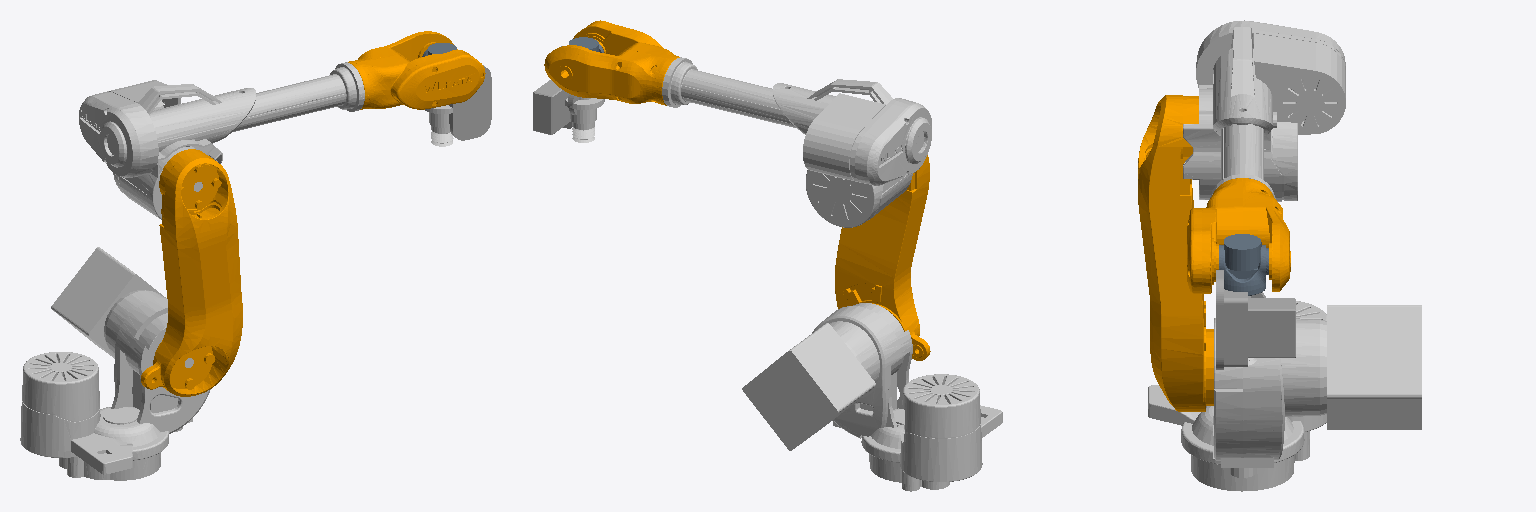
URDF robot description (mirobot_urdf_2):
<?xml version="1.0" encoding="utf-8"?>
<!-- =================================================================================== -->
<!-- |    This document was autogenerated by xacro from mirobot_urdf_2.xacro           | -->
<!-- |    EDITING THIS FILE BY HAND IS NOT RECOMMENDED                                 | -->
<!-- =================================================================================== -->
<!-- This URDF was automatically created by SolidWorks to URDF Exporter! Originally created by [author] ([email redacted]) 
     Commit Version: 1.5.1-0-g916b5db  Build Version: 1.5.7152.31018
     For more information, please see http://wiki.ros.org/sw_urdf_exporter -->
<robot name="mirobot_urdf_2">
  <link name="base_link">
    <inertial>
      <origin rpy="0 0 0" xyz="0.00072554 2.2065E-05 0.024268"/>
      <mass value="0.01"/>
      <inertia ixx="10" ixy="0" ixz="0" iyy="10" iyz="0" izz="10"/>
    </inertial>
    <visual>
      <origin rpy="0 0 0" xyz="0 0 0"/>
      <geometry>
        <mesh filename="package://mirobot_description/meshes/base_link.obj"/>
      </geometry>
      <material name="">
        <color rgba="0.44 0.5 0.56 1"/>
      </material>
    </visual>
    <collision>
      <origin rpy="0 0 0" xyz="0 0 0"/>
      <geometry>
        <mesh filename="package://mirobot_description/meshes/base_link.obj"/>
      </geometry>
    </collision>
  </link>
  <link name="Link1">
    <inertial>
      <origin rpy="0 0 0" xyz="0.011601 0.022341 0.044136"/>
      <mass value="0.001"/>
      <inertia ixx="10" ixy="0" ixz="0" iyy="10" iyz="0" izz="10"/>
    </inertial>
    <visual>
      <origin rpy="0 0 0" xyz="0 0 0"/>
      <geometry>
        <mesh filename="package://mirobot_description/meshes/Link1.obj"/>
      </geometry>
      <material name="">
        <color rgba="0.83 0.83 0.83 1"/>
      </material>
    </visual>
    <collision>
      <origin rpy="0 0 0" xyz="0 0 0"/>
      <geometry>
        <mesh filename="package://mirobot_description/meshes/Link1.obj"/>
      </geometry>
    </collision>
  </link>
  <joint name="joint1" type="revolute">
    <origin rpy="0 0 0" xyz="0 0 0.065406"/>
    <parent link="base_link"/>
    <child link="Link1"/>
    <axis xyz="0 0 1"/>
    <limit effort="200" lower="-1.7453" upper="2.7925" velocity="200"/>
  </joint>
  <link name="Link2">
    <inertial>
      <origin rpy="0 0 0" xyz="0.054694 0.0036383 -0.0056108"/>
      <mass value="0.001"/>
      <inertia ixx="10" ixy="0" ixz="0" iyy="10" iyz="0" izz="10"/>
    </inertial>
    <visual>
      <origin rpy="0 0 0" xyz="0 0 0"/>
      <geometry>
        <mesh filename="package://mirobot_description/meshes/Link2.obj"/>
      </geometry>
      <material name="">
        <color rgba="1 0.65 0 1"/>
      </material>
    </visual>
    <collision>
      <origin rpy="0 0 0" xyz="0 0 0"/>
      <geometry>
        <mesh filename="package://mirobot_description/meshes/Link2.obj"/>
      </geometry>
    </collision>
  </link>
  <joint name="joint2" type="revolute">
    <origin rpy="3.1402 -1.5708 1.5722" xyz="0.029687 -0.022 0.061593"/>
    <parent link="Link1"/>
    <child link="Link2"/>
    <axis xyz="0 0 1"/>
    <limit effort="200" lower="-0.5235" upper="1.2217" velocity="200"/>
  </joint>
  <link name="Link3">
    <inertial>
      <origin rpy="0 0 0" xyz="0.0099997 0.0071403 0.037517"/>
      <mass value="0.001"/>
      <inertia ixx="10" ixy="0" ixz="0" iyy="10" iyz="0" izz="10"/>
    </inertial>
    <visual>
      <origin rpy="0 0 0" xyz="0 0 0"/>
      <geometry>
        <mesh filename="package://mirobot_description/meshes/Link3.obj"/>
      </geometry>
      <material name="">
        <color rgba="0.83 0.83 0.83 1"/>
      </material>
    </visual>
    <collision>
      <origin rpy="0 0 0" xyz="0 0 0"/>
      <geometry>
        <mesh filename="package://mirobot_description/meshes/Link3.obj"/>
      </geometry>
    </collision>
  </link>
  <joint name="joint3" type="revolute">
    <origin rpy="0 0 0" xyz="0.108 0 -0.0094471"/>
    <parent link="Link2"/>
    <child link="Link3"/>
    <axis xyz="0 0 1"/>
    <limit effort="200" lower="-2.9671" upper="1.0472" velocity="200"/>
  </joint>
  <link name="Link4">
    <inertial>
      <origin rpy="0 0 0" xyz="-8.0804E-06 0.0043797 0.040569"/>
      <mass value="0.001"/>
      <inertia ixx="10" ixy="0" ixz="0" iyy="10" iyz="0" izz="10"/>
    </inertial>
    <visual>
      <origin rpy="0 0 0" xyz="0 0 0"/>
      <geometry>
        <mesh filename="package://mirobot_description/meshes/Link4.obj"/>
      </geometry>
      <material name="">
        <color rgba="1 0.65 0 1"/>
      </material>
    </visual>
    <collision>
      <origin rpy="0 0 0" xyz="0 0 0"/>
      <geometry>
        <mesh filename="package://mirobot_description/meshes/Link4.obj"/>
      </geometry>
    </collision>
  </link>
  <joint name="joint4" type="revolute">
    <origin rpy="-1.5708 0 0" xyz="0.020001 0.10743 0.031439"/>
    <parent link="Link3"/>
    <child link="Link4"/>
    <axis xyz="0 0 1"/>
    <limit effort="200" lower="-6.1086" upper="6.1086" velocity="200"/>
  </joint>
  <link name="Link5">
    <inertial>
      <origin rpy="0 0 0" xyz="0.00025302 -0.0020133 0.010352"/>
      <mass value="0.001"/>
      <inertia ixx="10" ixy="0" ixz="0" iyy="10" iyz="0" izz="10"/>
    </inertial>
    <visual>
      <origin rpy="0 0 0" xyz="0 0 0"/>
      <geometry>
        <mesh filename="package://mirobot_description/meshes/Link5.obj"/>
      </geometry>
      <material name="">
        <color rgba="0.44 0.5 0.56 1"/>
      </material>
    </visual>
    <collision>
      <origin rpy="0 0 0" xyz="0 0 0"/>
      <geometry>
        <mesh filename="package://mirobot_description/meshes/Link5.obj"/>
      </geometry>
    </collision>
  </link>
  <joint name="joint5" type="revolute">
    <origin rpy="1.5708 -1.5708 -3.1416" xyz="0 -0.010414 0.06155"/>
    <parent link="Link4"/>
    <child link="Link5"/>
    <axis xyz="0 0 -1"/>
    <limit effort="200" lower="-3.5779" upper="0.6283" velocity="200"/>
  </joint>
  <link name="Link6">
    <inertial>
      <origin rpy="0 0 0" xyz="5.5511E-17 5.421E-20 -0.010506"/>
      <mass value="0.001"/>
      <inertia ixx="10" ixy="0" ixz="0" iyy="10" iyz="0" izz="10"/>
    </inertial>
    <visual>
      <origin rpy="0 0 0" xyz="0 0 0"/>
      <geometry>
        <mesh filename="package://mirobot_description/meshes/Link6.obj"/>
      </geometry>
      <material name="">
        <color rgba="0.83 0.83 0.83 1"/>
      </material>
    </visual>
    <collision>
      <origin rpy="0 0 0" xyz="0 0 0"/>
      <geometry>
        <mesh filename="package://mirobot_description/meshes/Link6.obj"/>
      </geometry>
    </collision>
  </link>
  <joint name="joint6" type="revolute">
    <origin rpy="-1.5708 0 0" xyz="0 -0.01628 0.010525"/>
    <parent link="Link5"/>
    <child link="Link6"/>
    <axis xyz="0 0 1"/>
    <limit effort="200" lower="-6.2832" upper="6.2832" velocity="200"/>
  </joint>
  <!-- from this, gripper -->
  <joint name="mirobot_hand_joint" type="fixed">
    <origin rpy="-1.5708 0 -1.5708" xyz="0 0 -0.005"/>
    <parent link="Link6"/>
    <child link="mirobot_hand"/>
    <axis xyz="0 0 1"/>
  </joint>
  <link name="mirobot_hand">
    <visual>
      <geometry>
        <mesh filename="package://mirobot_description/meshes/mirobot_hand.obj"/>
      </geometry>
      <color rgba="0.83 0.83 0.83 1"/>
    </visual>
    <collision>
      <geometry>
        <mesh filename="package://mirobot_description/meshes/mirobot_hand.obj"/>
      </geometry>
    </collision>
  </link>
  <link name="left_finger">
    <visual>
      <geometry>
        <mesh filename="package://mirobot_description/meshes/finger.obj"/>
      </geometry>
    </visual>
    <collision>
      <geometry>
        <mesh filename="package://mirobot_description/meshes/finger.obj"/>
      </geometry>
    </collision>
  </link>
  <link name="right_finger">
    <visual>
      <origin rpy="0 3.14159265359 0" xyz="0 0 0"/>
      <geometry>
        <mesh filename="package://mirobot_description/meshes/finger.obj"/>
      </geometry>
    </visual>
    <collision>
      <origin rpy="0 3.14159265359 0" xyz="0 0 0"/>
      <geometry>
        <mesh filename="package://mirobot_description/meshes/finger.obj"/>
      </geometry>
    </collision>
  </link>
  <joint name="left_finger_joint" type="prismatic">
    <parent link="mirobot_hand"/>
    <child link="left_finger"/>
    <origin rpy="0 0 0" xyz="-0.015 0 0"/>
    <axis xyz="1 0 0"/>
    <dynamics damping="10.0"/>
    <limit effort="20" lower="0.0" upper="0.015" velocity="0.2"/>
  </joint>
  <joint name="right_finger_joint" type="prismatic">
    <parent link="mirobot_hand"/>
    <child link="right_finger"/>
    <origin rpy="0 0 0" xyz="0.015 0 0"/>
    <axis xyz="-1 0 0"/>
    <dynamics damping="10.0"/>
    <limit effort="20" lower="0.0" upper="0.015" velocity="0.2"/>
    <mimic joint="left_finger_joint"/>
  </joint>
</robot>

--- Facts derived from the render (not from the file) ---
The picture shows the robot from 3 angles, left to right: view 1: azimuth 30°, elevation 25°; view 2: azimuth 150°, elevation 25°; view 3: azimuth 270°, elevation 25°; orthographic projection.
Robot: mirobot_urdf_2 — 10 links, 9 joints (6 revolute, 2 prismatic, 1 fixed); root link base_link; default pose: every joint at zero.
Links seen in each view (by area): view 1: Link1, Link2, Link3, Link4, mirobot_hand, Link6; view 2: Link1, Link3, Link2, Link4, mirobot_hand, Link6; view 3: Link1, Link3, Link2, Link4, mirobot_hand, Link5.
Boxes of the visible links, <box> form: Link1: <box>20,247,210,480</box>; Link2: <box>141,149,242,396</box>; Link3: <box>79,62,364,219</box>; Link4: <box>348,31,485,109</box>; mirobot_hand: <box>449,65,491,140</box>; Link6: <box>425,105,453,146</box>; Link1: <box>742,303,1002,491</box>; Link3: <box>662,57,931,227</box>; Link2: <box>835,155,930,360</box>; Link4: <box>544,20,679,105</box>; mirobot_hand: <box>533,46,578,134</box>; Link6: <box>565,97,604,142</box>; Link1: <box>1148,301,1421,491</box>; Link3: <box>1183,20,1345,201</box>; Link2: <box>1138,95,1213,411</box>; Link4: <box>1187,178,1290,293</box>; mirobot_hand: <box>1216,270,1295,369</box>; Link5: <box>1219,234,1268,295</box>.
Bounding box of the posed robot: 0.272 × 0.1198 × 0.216 m (x, y, z).
7 mesh visuals loaded from 9 distinct referenced files (7 OBJ); not drawn: 3 (reference not matched to a file when rendering).